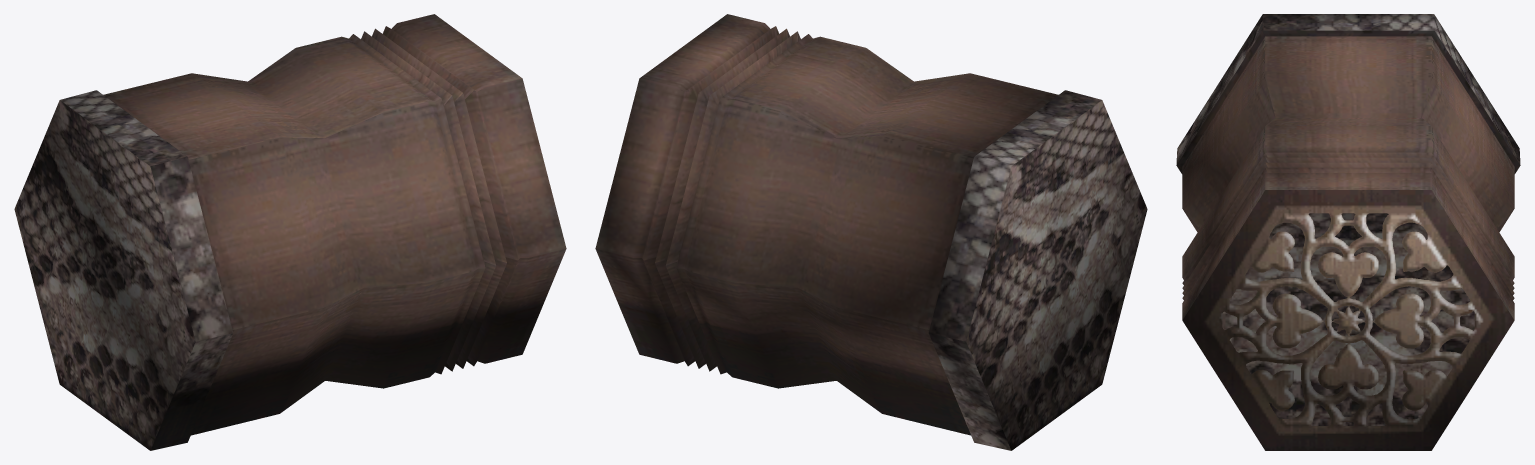
The picture shows the model from 3 angles, left to right: view 1: azimuth 30°, elevation 25°; view 2: azimuth 150°, elevation 25°; view 3: azimuth 270°, elevation 25°; orthographic projection. The views are drawn at different scales.
Parts seen in each view (by area): view 1: node_id14; view 2: node_id14; view 3: node_id14.
Part boxes in pixels (x1,y1,x2,y2): node_id14: (14,14,566,450); node_id14: (595,14,1147,450); node_id14: (1176,14,1520,450).
Bounding box in the file's own units: 0.0843 × 0.0609 × 0.0704.
Materials: 1 (1 with a texture image).
